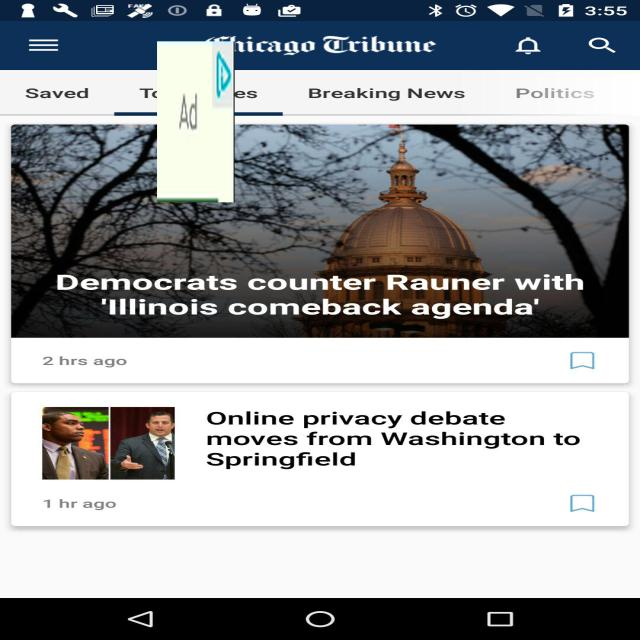sneaking: (157, 41, 235, 202)
